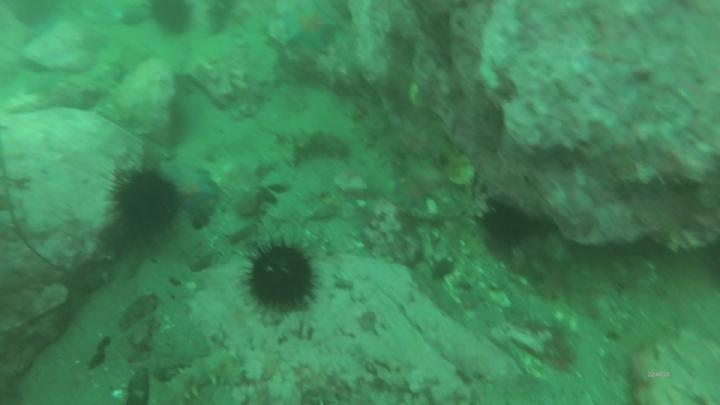echinus: (239, 237, 320, 317), (109, 162, 186, 242), (478, 194, 538, 253), (145, 1, 192, 35)
holothurian: (149, 350, 247, 405), (282, 128, 355, 169)
starfish: (280, 1, 344, 54), (159, 167, 217, 219)
